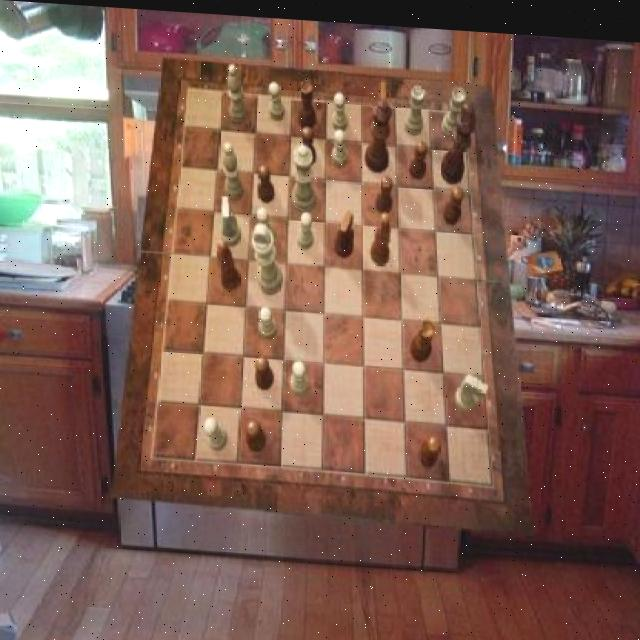bishop: (217, 236, 241, 288), (371, 207, 391, 262)
black-bishop: (440, 94, 477, 178)
black-king: (334, 207, 354, 255), (371, 76, 388, 130)
black-knight: (418, 429, 442, 465), (443, 180, 464, 220), (258, 161, 276, 201), (375, 170, 393, 210), (411, 134, 428, 175), (300, 123, 317, 163), (246, 418, 266, 451), (256, 352, 274, 388)
black-pawn: (366, 91, 394, 167)
black-queen: (411, 312, 435, 357), (299, 76, 316, 128)
black-rook: (223, 139, 244, 199), (228, 61, 248, 121)
white-bishop: (252, 221, 283, 293)
white-king: (456, 367, 488, 407), (220, 193, 241, 245)
white-knight: (204, 414, 228, 449), (258, 303, 278, 338), (257, 203, 275, 241), (297, 208, 314, 246), (332, 125, 348, 165), (291, 357, 308, 394), (270, 79, 286, 118), (334, 88, 349, 129)
white-pawn: (292, 140, 317, 210)
white-queen: (442, 80, 466, 132), (405, 81, 427, 131)
